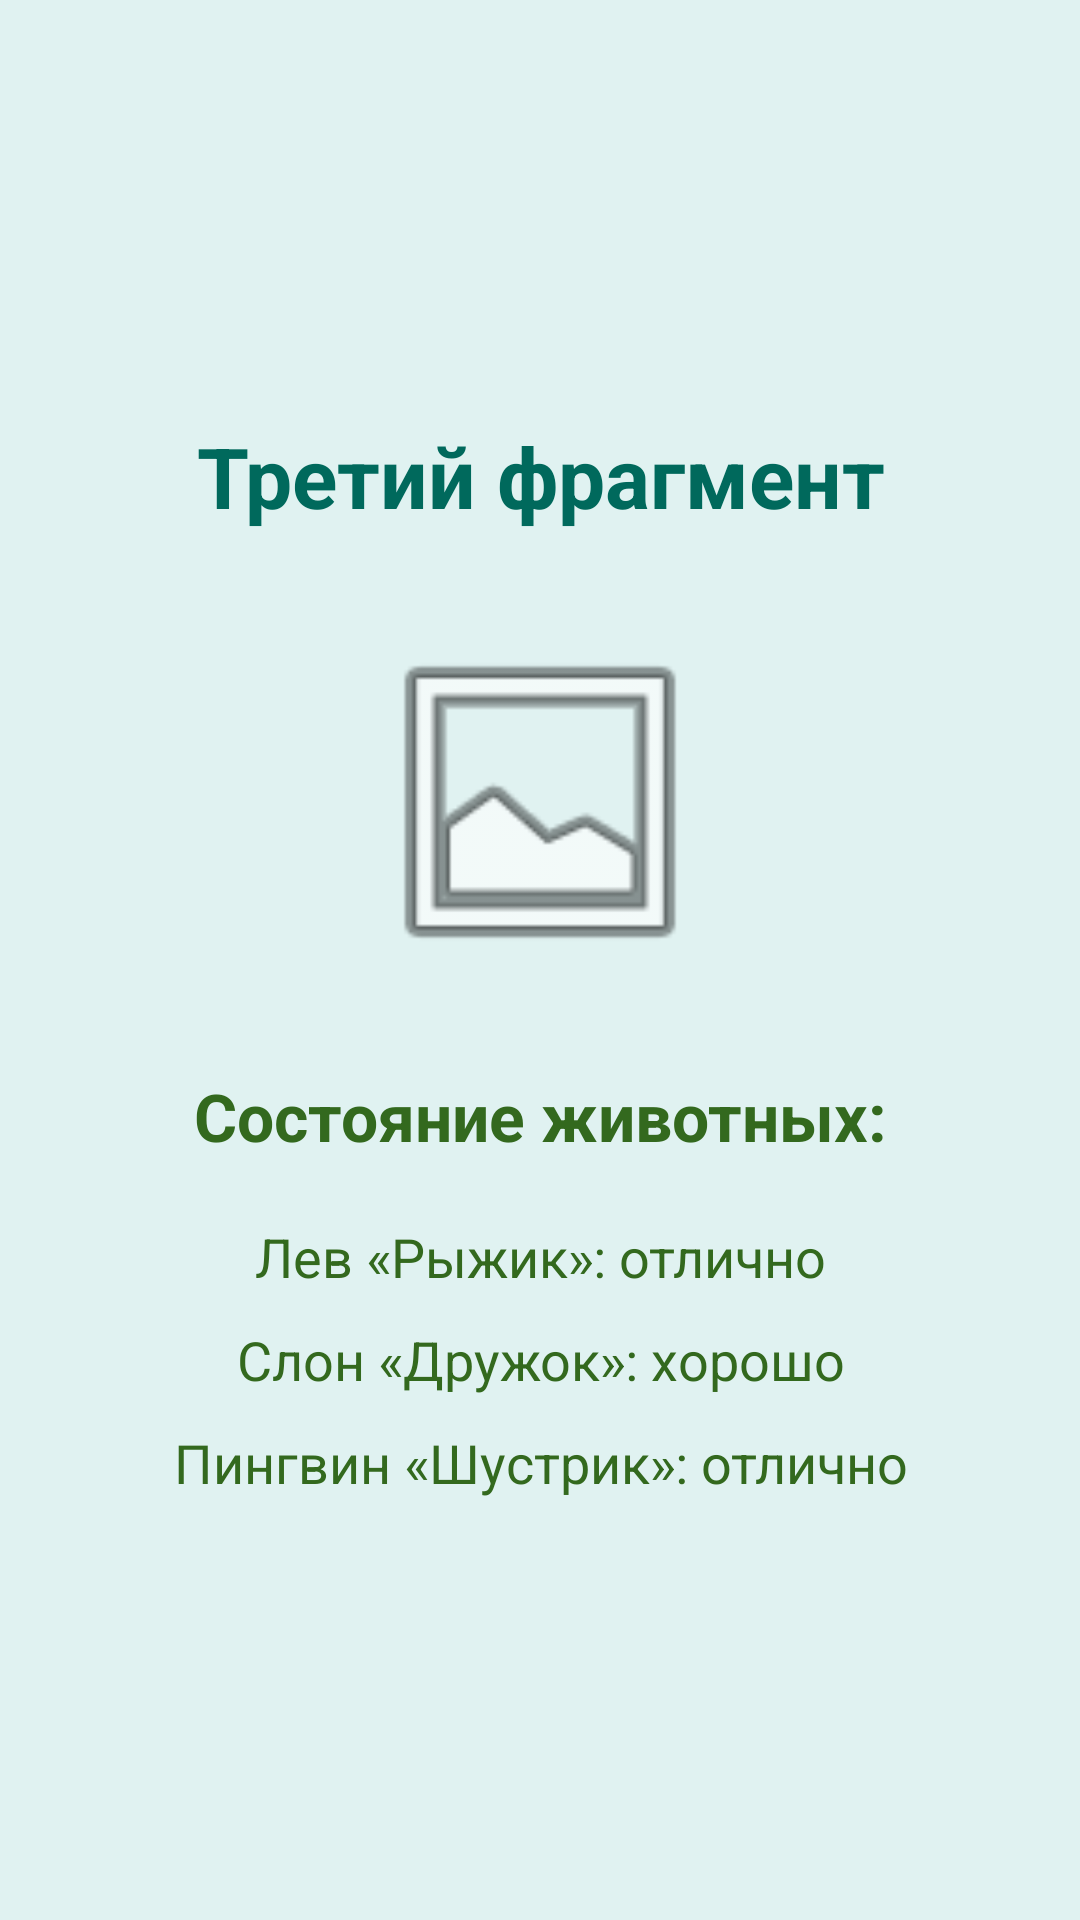

Where icons sit on this 1080px×1920px app screen, as (x1, y1, x2, y2):
gallery: (403, 665, 677, 939)
